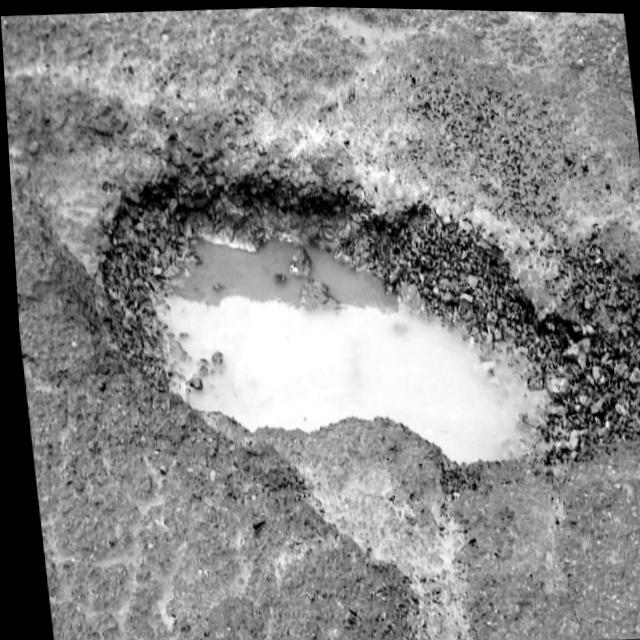pathole: (52, 113, 640, 567)
